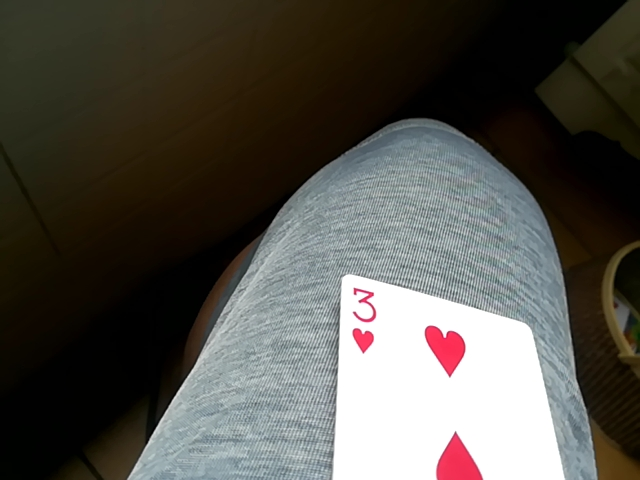hx 3: (324, 271, 565, 479)
